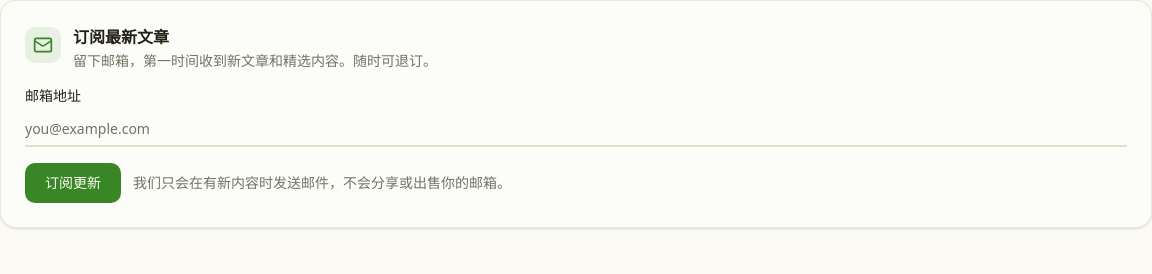
Test: SubscribeForm › shows validation error for invalid email
Click the button "订阅更新": click(73, 183) [25, 163, 121, 203]
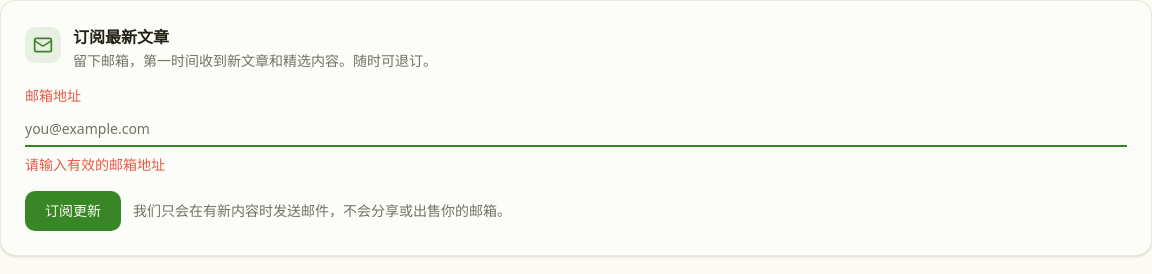
Check: the text "请输入有效的邮箱地址" is shown, box [25, 155, 165, 174]
